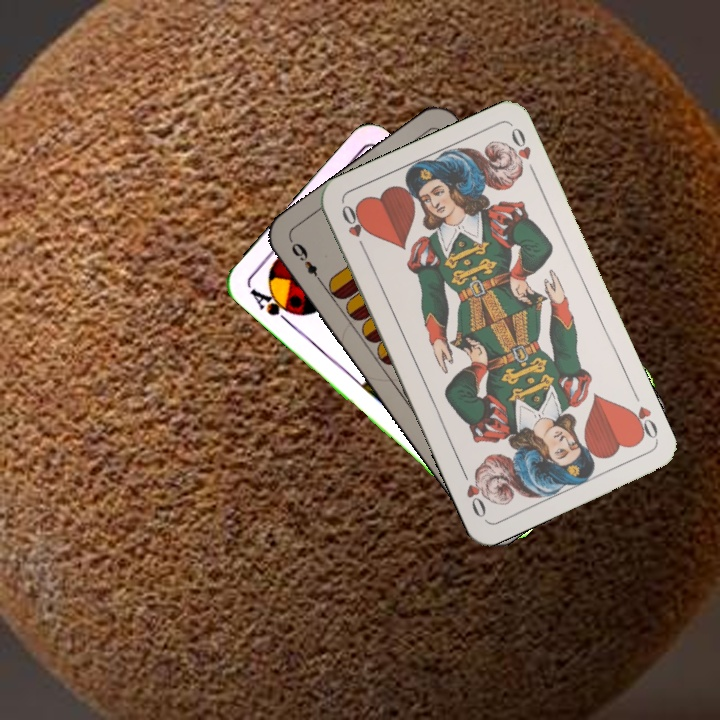E9: (286, 237, 327, 288)
HO: (337, 200, 370, 256), (623, 402, 661, 443)
SA: (245, 284, 301, 328)
